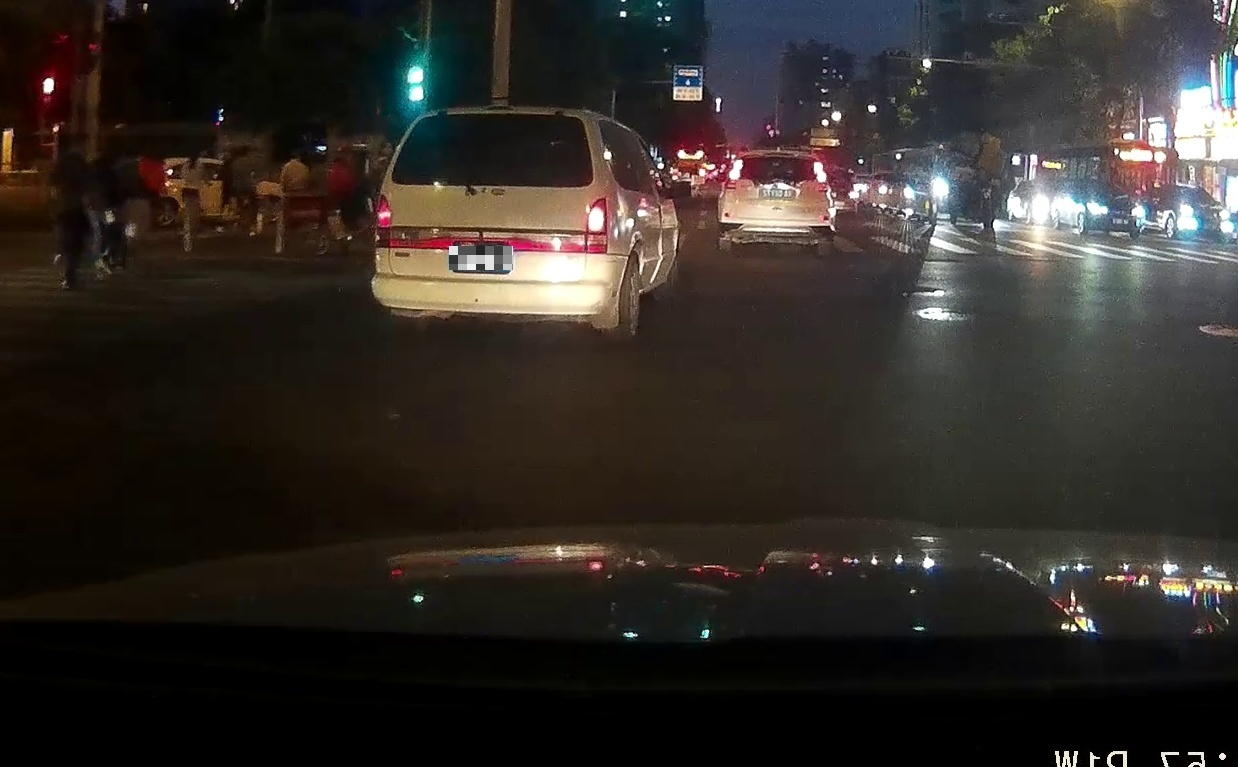L_light: (377, 195, 392, 227), (728, 159, 743, 180)
R_light: (587, 198, 606, 235), (813, 161, 826, 182)
T_light: (481, 114, 506, 121), (768, 156, 786, 162)
night-no: (717, 150, 835, 258)
night-right: (371, 107, 610, 341)
plate_1: (449, 246, 513, 270)
